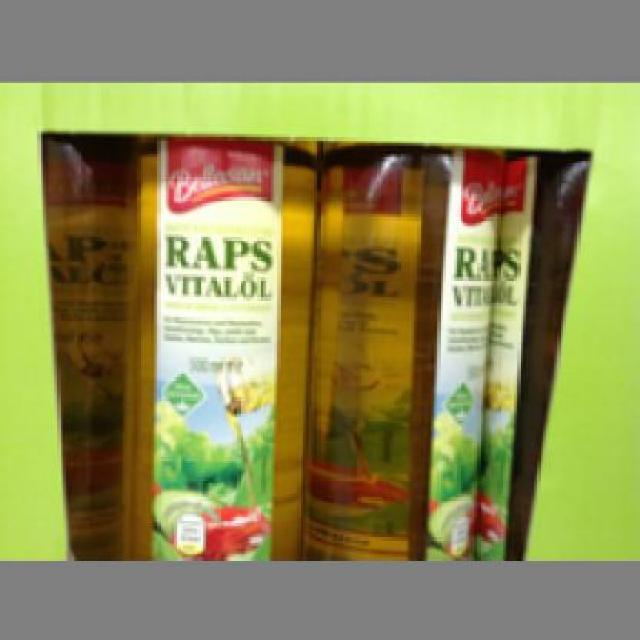Oil: (300, 140, 506, 554), (114, 135, 317, 554)
